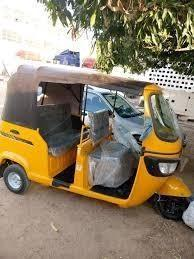keke: (3, 57, 194, 226)
